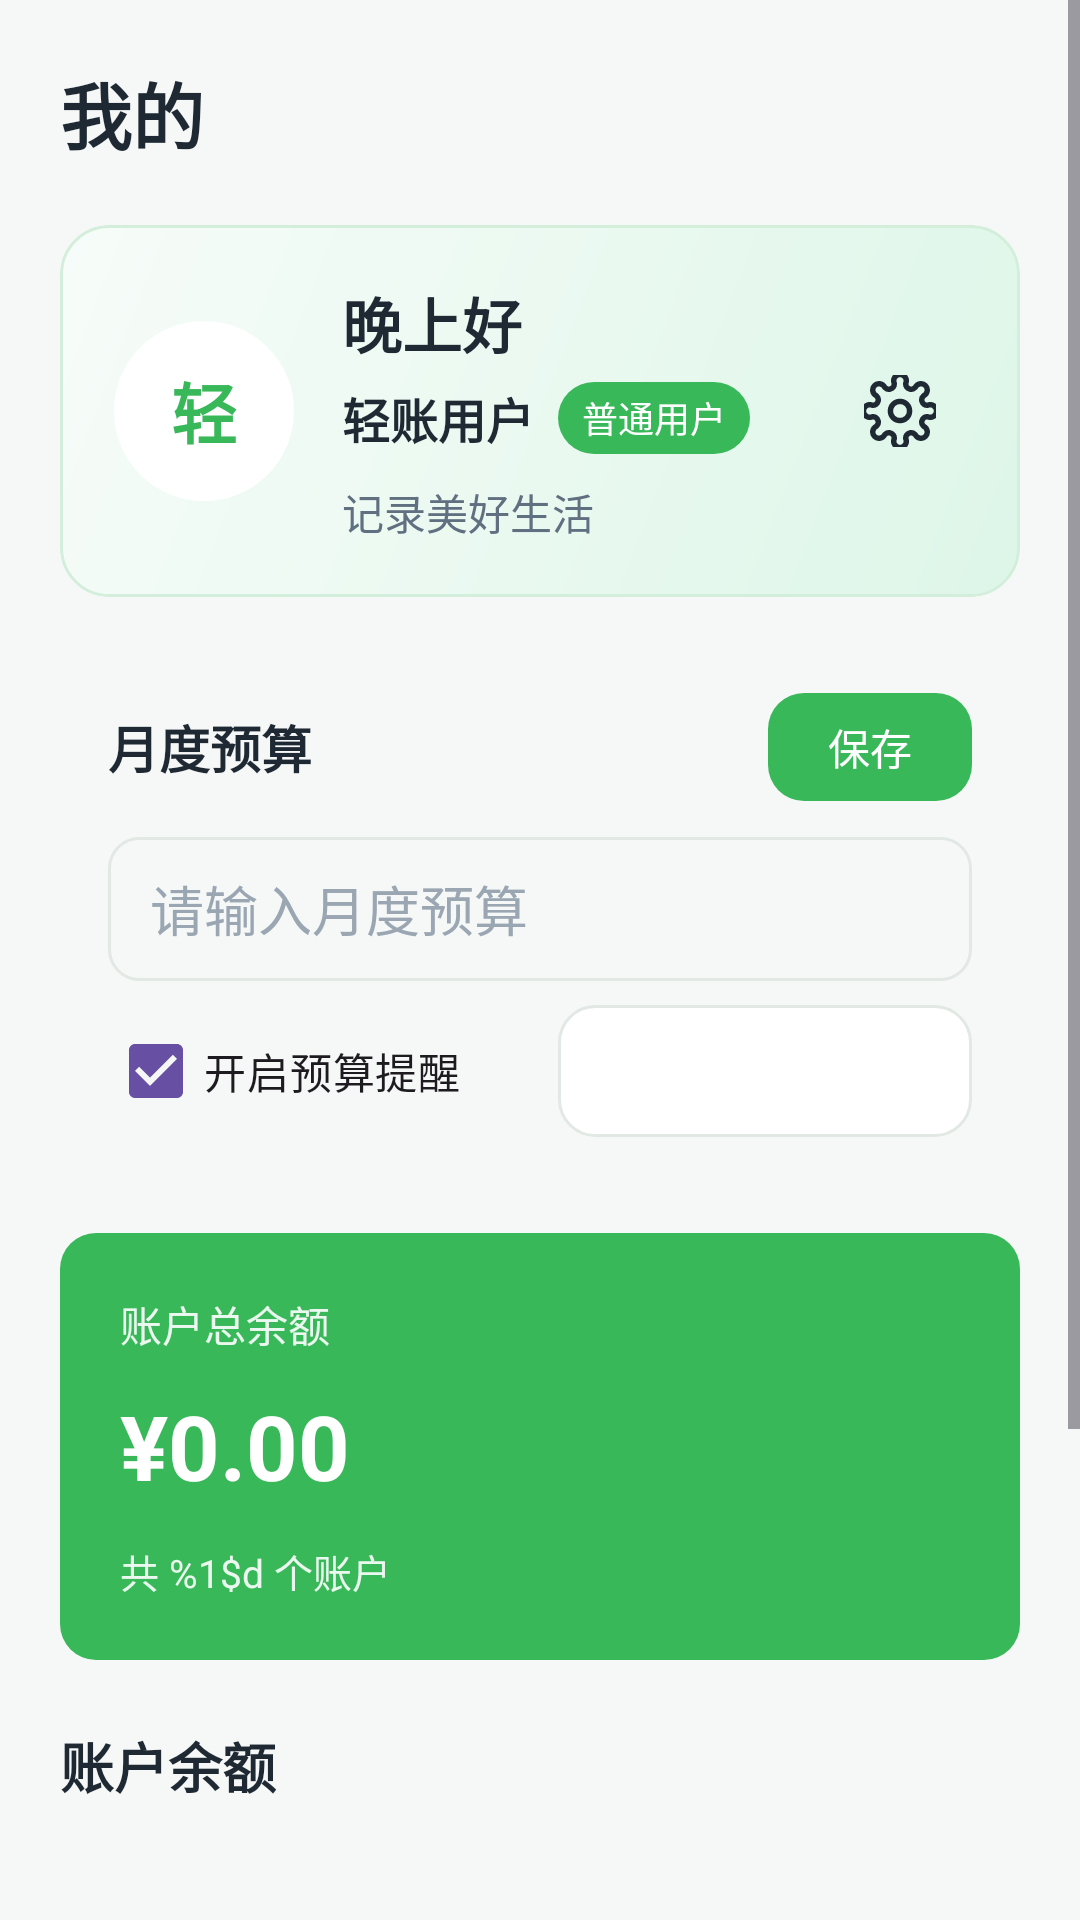

Icon bounding boxes for this 1080px x 1920px phone screenshot, format BBox(x1, y1, x2, y2):
个人设置: BBox(864, 375, 936, 447)
